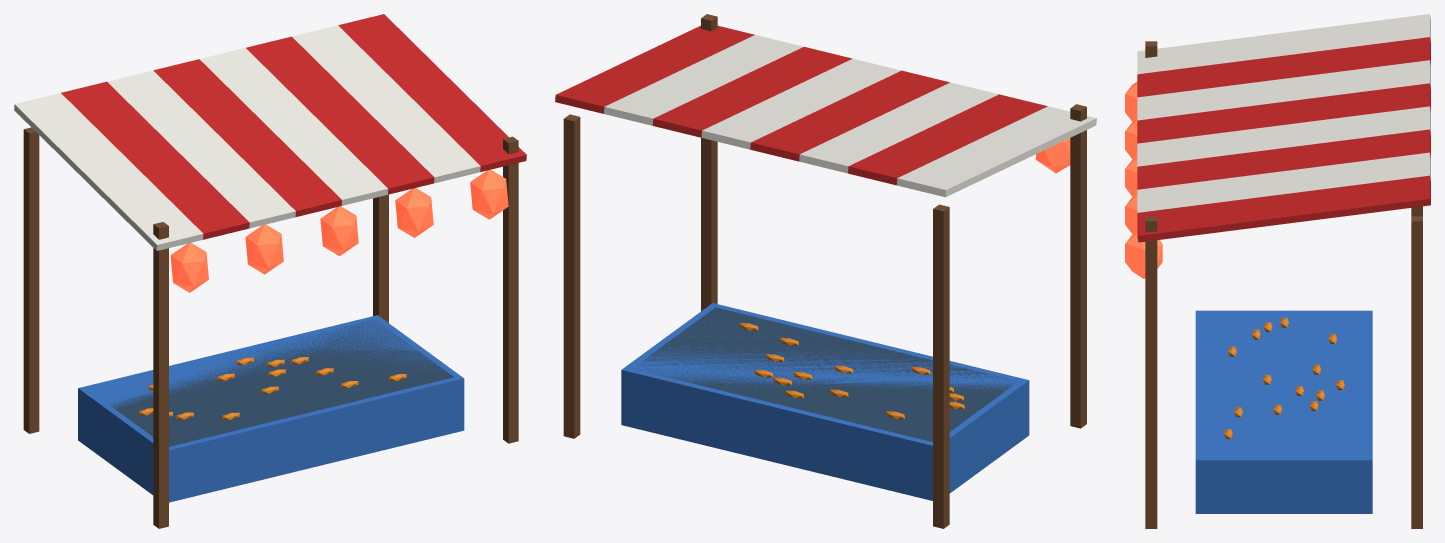
Rendered from kingyo.glb.
The picture shows the model from 3 angles, left to right: view 1: azimuth 30°, elevation 25°; view 2: azimuth 150°, elevation 25°; view 3: azimuth 270°, elevation 25°; orthographic projection. The views are drawn at different scales.
Visible parts, largest first — view 1: kingyo; view 2: kingyo; view 3: kingyo.
Boxes of the visible parts, bbox=[...] form: kingyo: bbox=[14, 14, 526, 528]; kingyo: bbox=[555, 14, 1096, 528]; kingyo: bbox=[1125, 14, 1430, 528].
Size of the model in its own units: 2.96 by 2.48 by 2.07.
